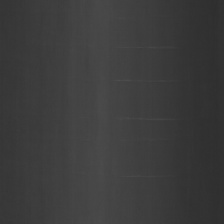waist_folding: (121, 25, 189, 186)
